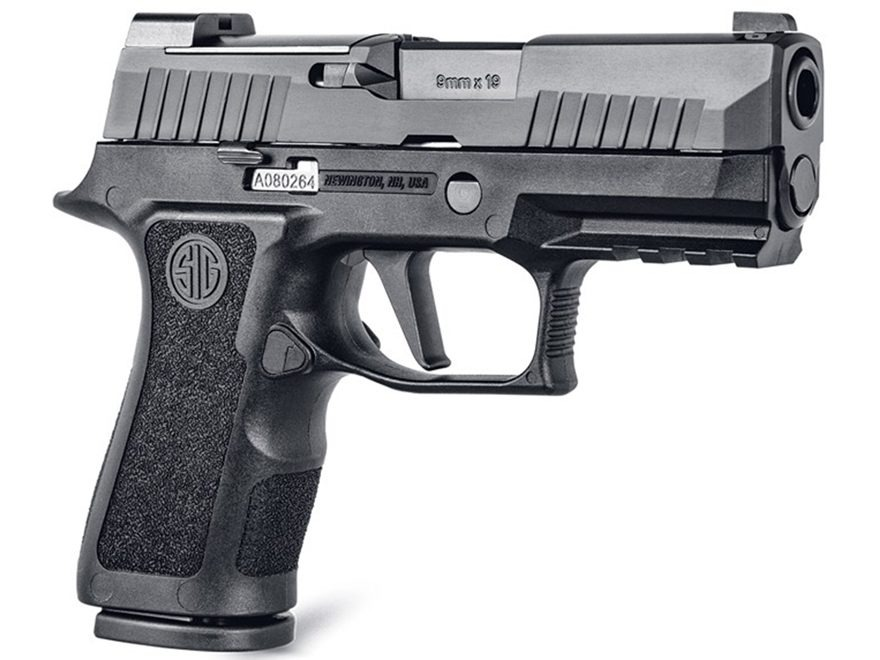gun: (46, 3, 831, 660)
